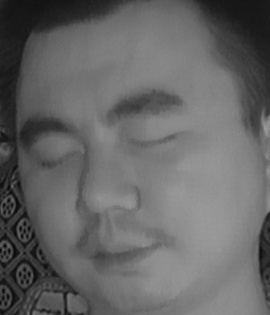blink: (128, 122, 181, 159), (33, 141, 82, 176)
mouth: (79, 225, 164, 284)
